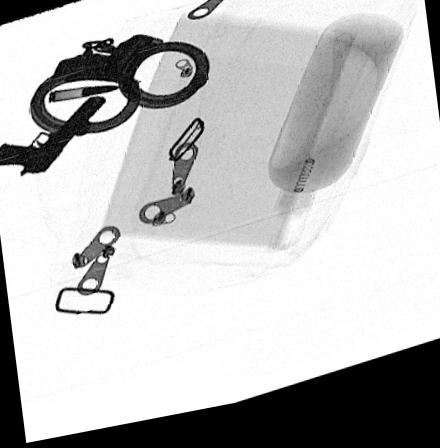Bullet: (50, 90, 120, 104)
Gun: (0, 100, 108, 177)
HandCuffs: (29, 38, 210, 141)
